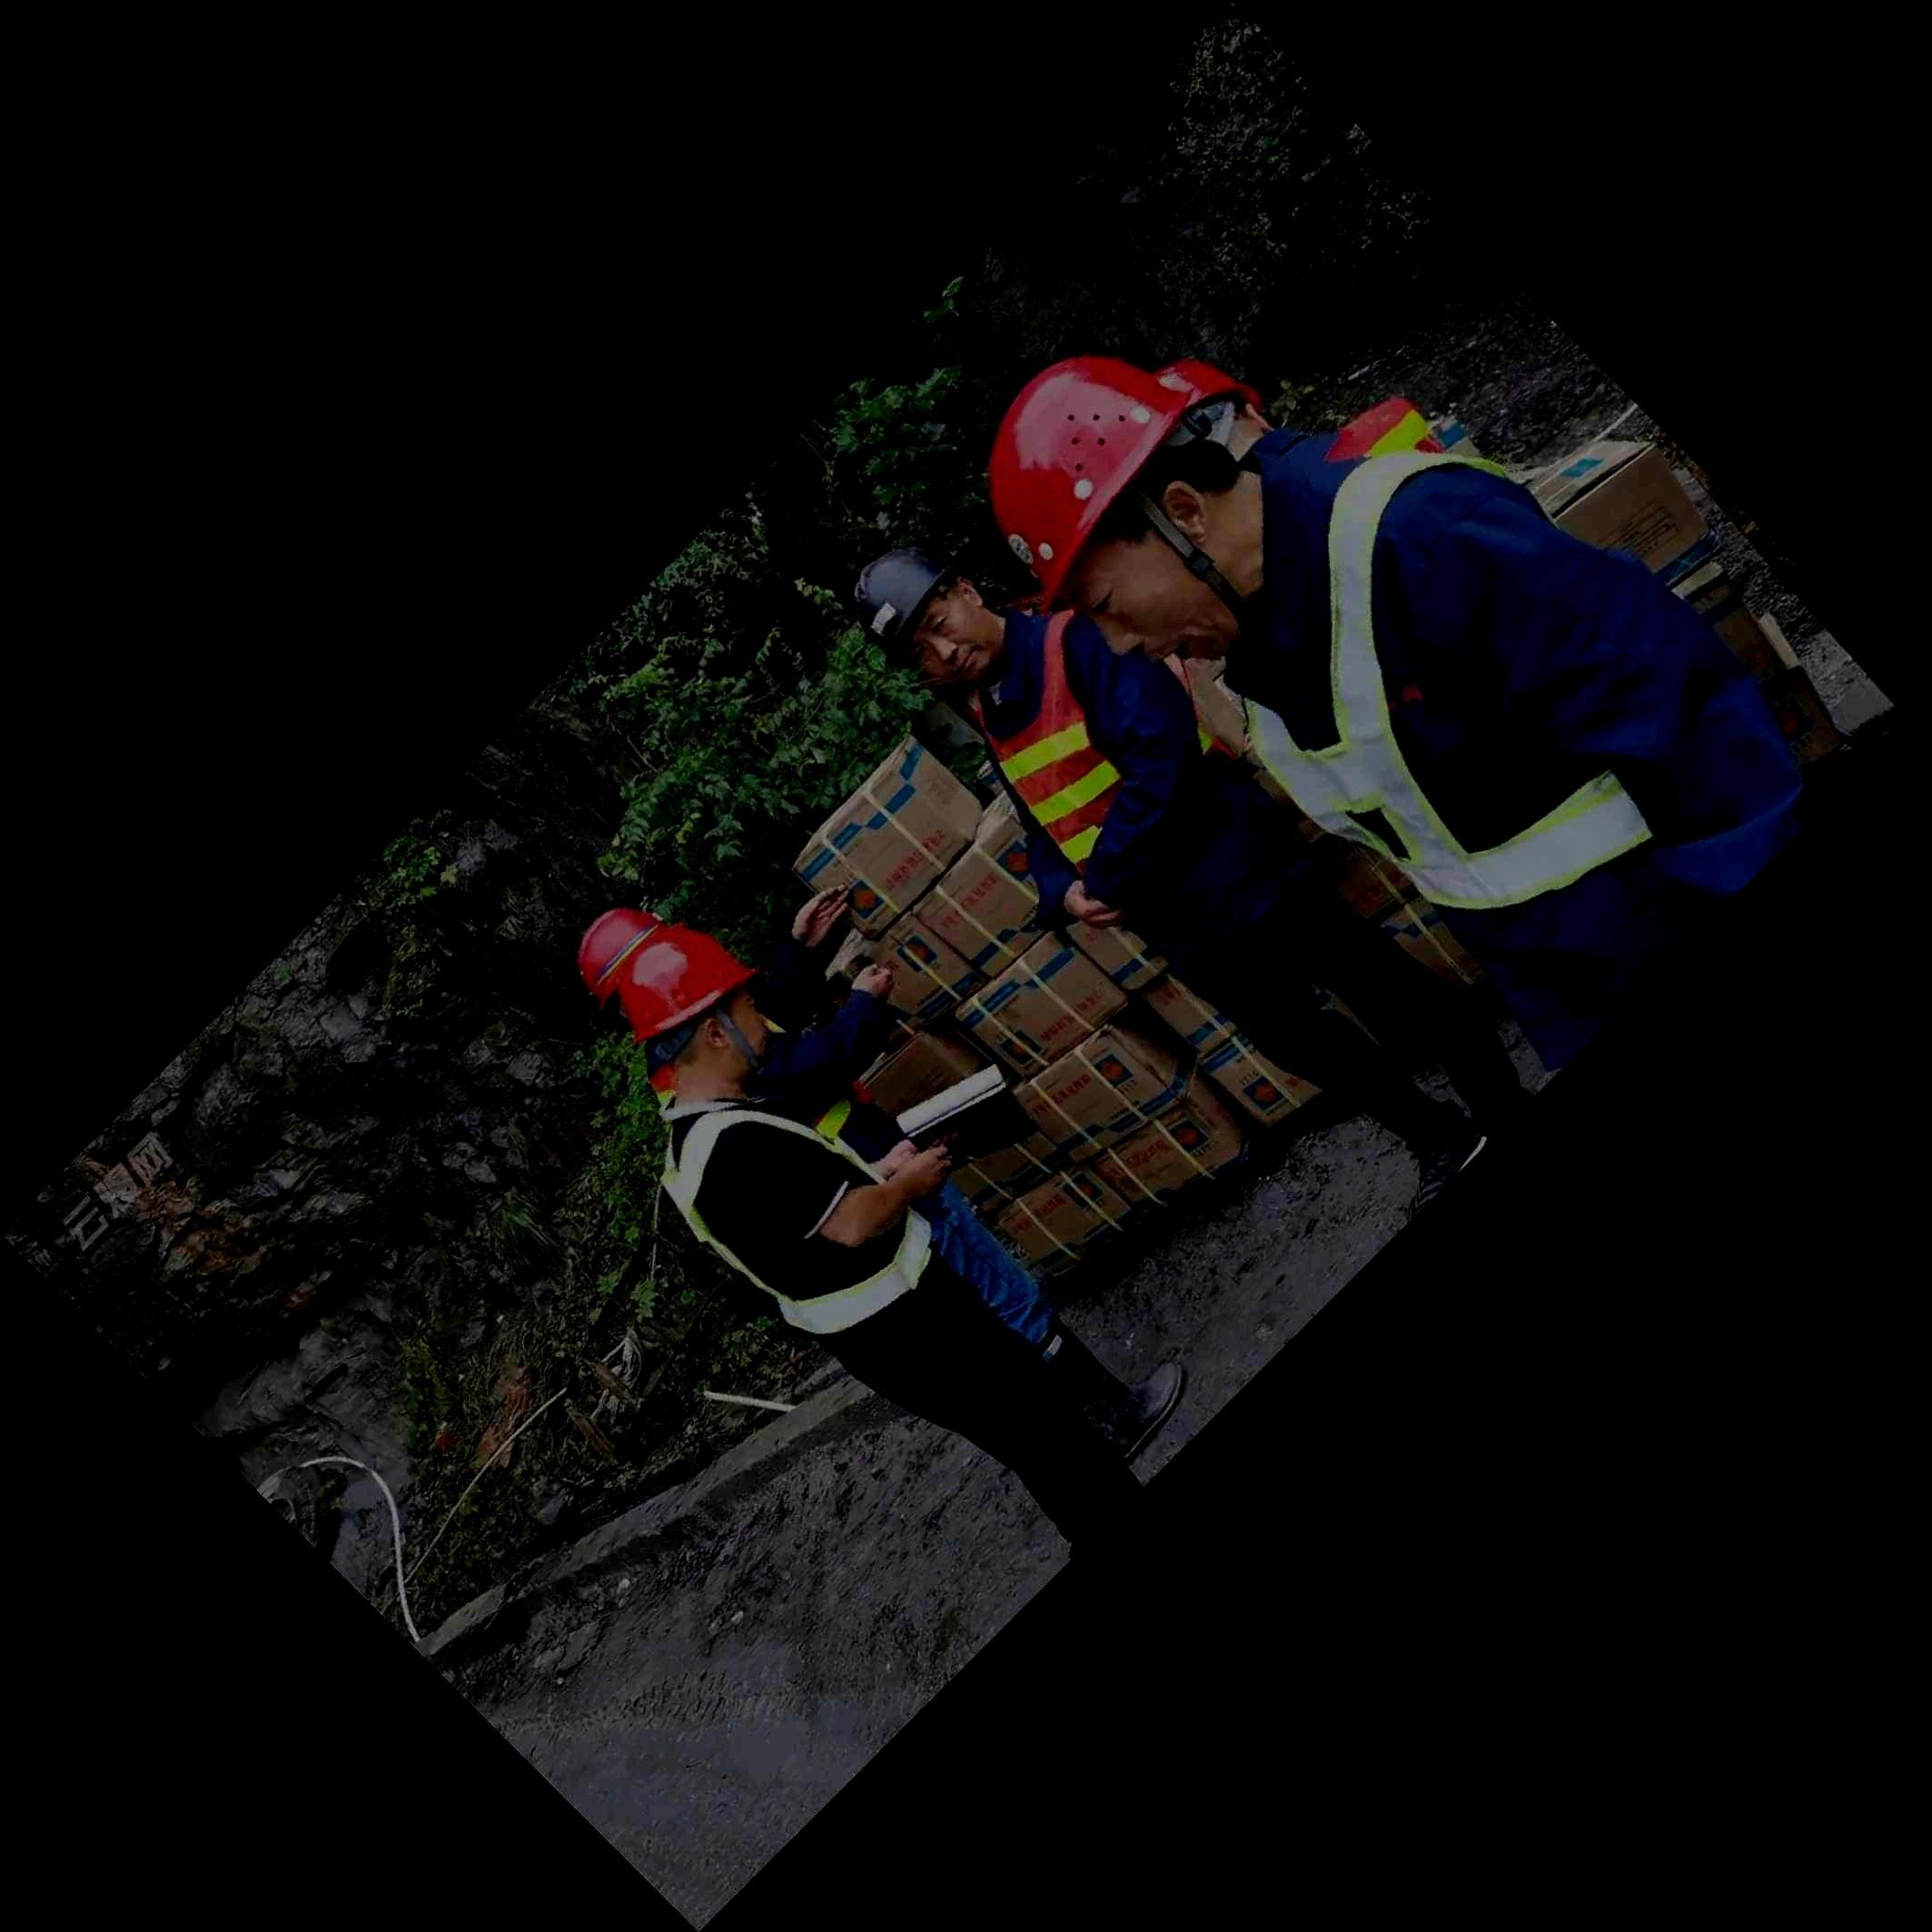helmet: (987, 354, 1261, 663), (616, 929, 770, 1077), (855, 547, 998, 685), (1150, 357, 1274, 460), (577, 906, 667, 1014)
